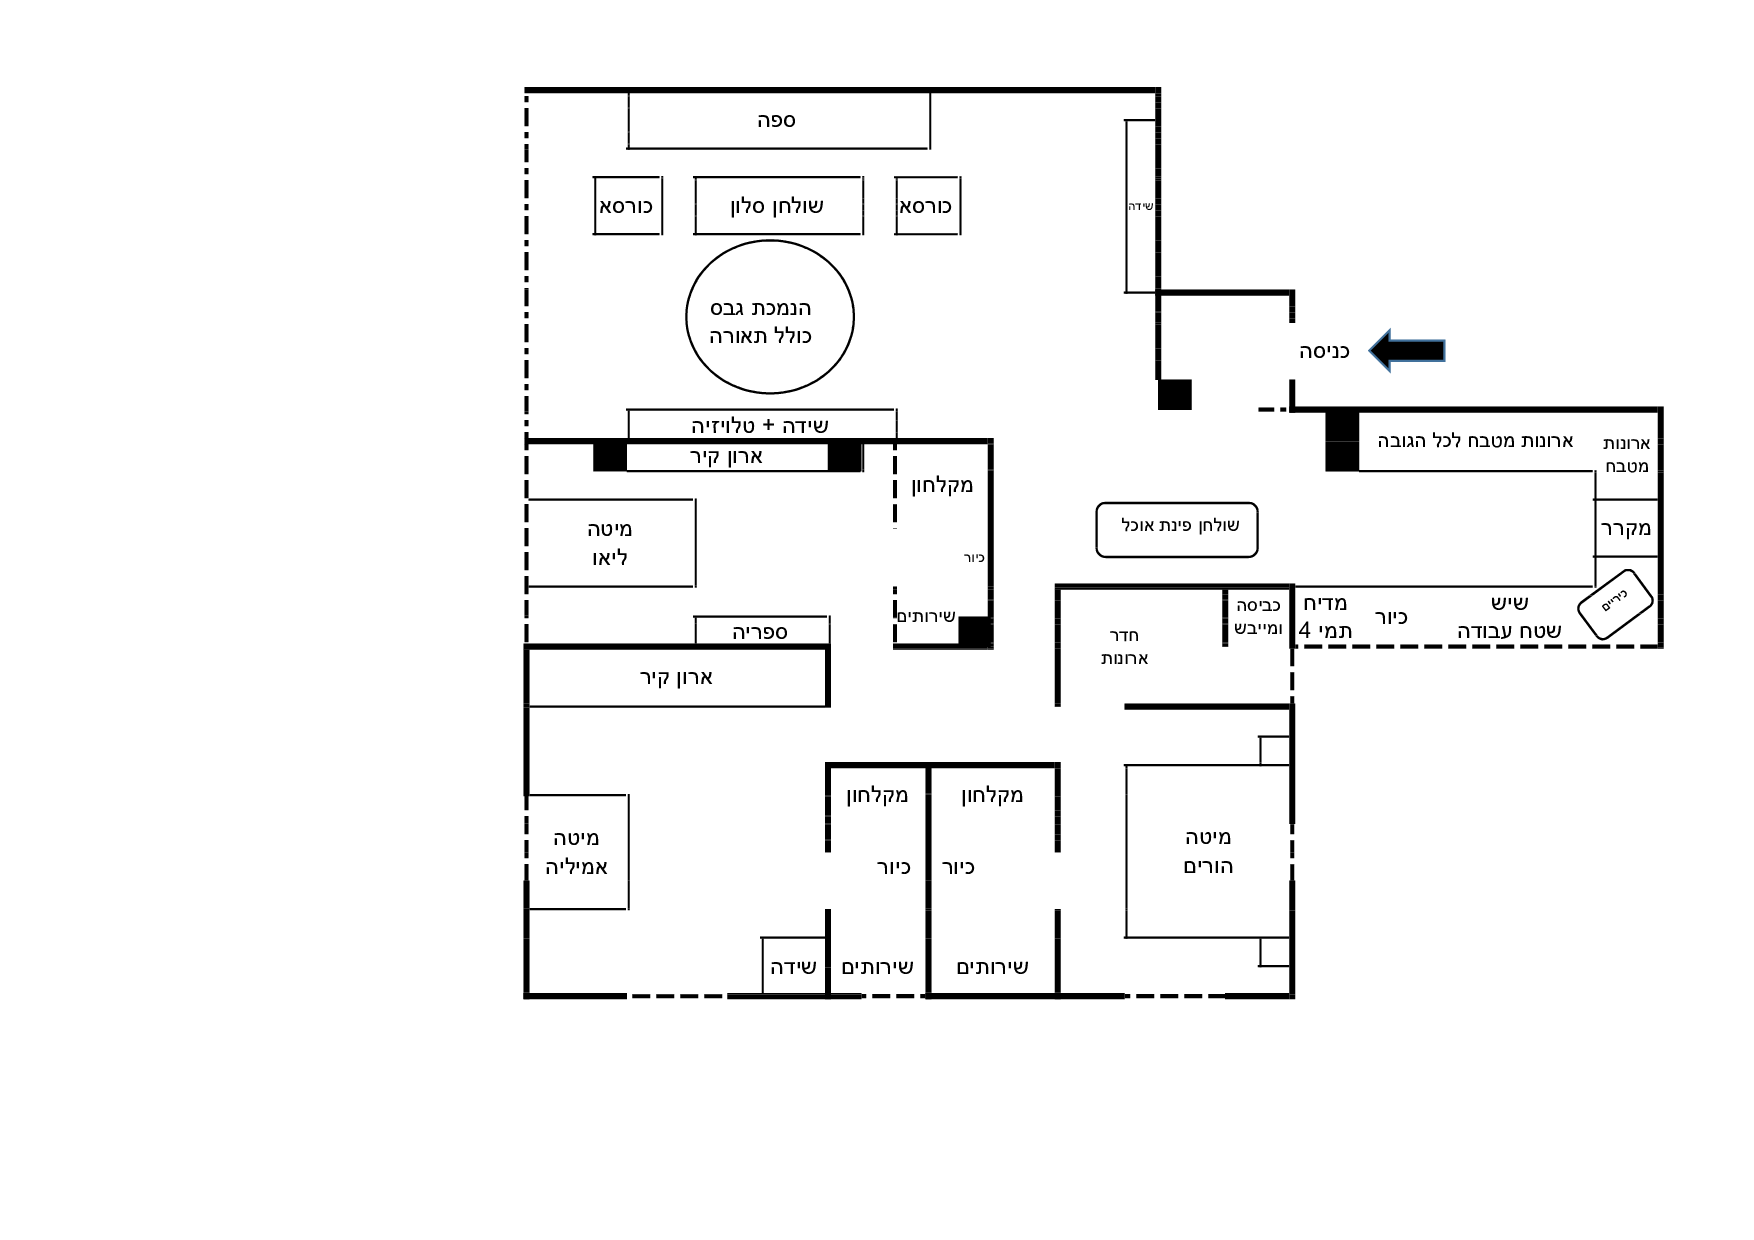wall: (526, 437, 993, 446), (523, 89, 1162, 94), (1155, 115, 1162, 376), (523, 644, 829, 650), (986, 450, 993, 650), (926, 765, 931, 993), (522, 880, 529, 997)
